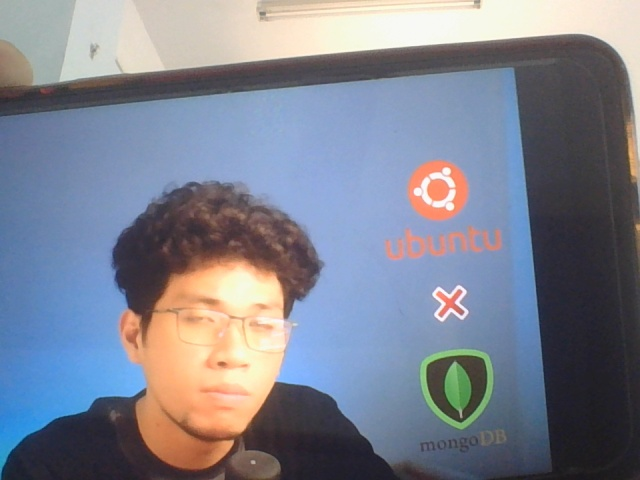fake: (123, 187, 307, 448)
